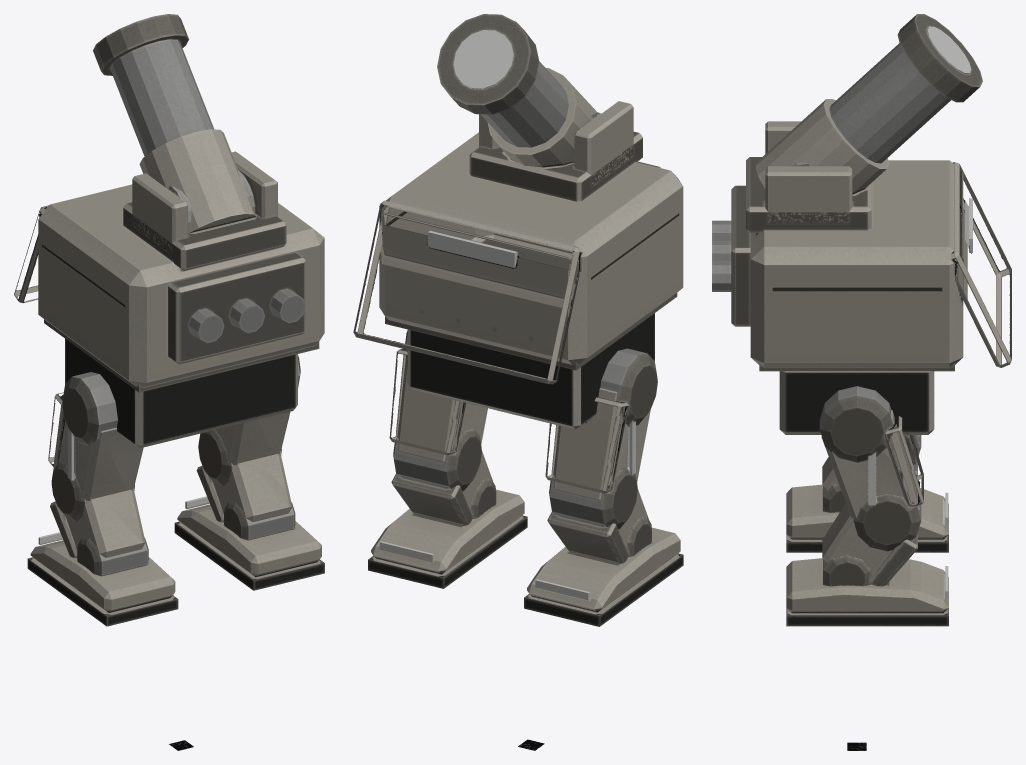
Rendered from ord_culverin.fbx.
3 renders of one model, left to right at view 1: azimuth 30°, elevation 25°; view 2: azimuth 150°, elevation 25°; view 3: azimuth 270°, elevation 25°, orthographic. The views are drawn at different scales.
Visible parts, largest first — view 1: torso_bar, barrel_bar, base_bar, thighL_bar, footL_bar, footR_bar, shinL_bar, shinR_bar, thighR_bar; view 2: torso_bar, thighL_bar, base_bar, barrel_bar, footR_bar, footL_bar, thighR_bar, shinR_bar, shinL_bar, barrel_glow_weapon_bar, torso_glow_head_bar; view 3: torso_bar, barrel_bar, thighR_bar, footR_bar, base_bar, footL_bar, shinR_bar, barrel_glow_weapon_bar, shinL_bar.
Part boxes in pixels (x1,y1,x2,y2): torso_bar: (14,151,324,392); barrel_bar: (93,14,256,233); base_bar: (65,339,297,448); thighL_bar: (48,372,143,522); footL_bar: (27,540,178,626); footR_bar: (174,504,324,590); shinL_bar: (50,489,148,576); shinR_bar: (196,453,295,540); thighR_bar: (198,355,300,486); torso_bar: (353,101,683,384); thighL_bar: (545,348,657,529); base_bar: (407,313,654,429); barrel_bar: (437,14,601,167); footR_bar: (368,489,527,588); footL_bar: (524,527,683,626); thighR_bar: (389,331,487,491); shinR_bar: (391,451,496,525); shinL_bar: (547,489,651,563); barrel_glow_weapon_bar: (453,30,513,88); torso_glow_head_bar: (428,230,516,267); torso_bar: (712,121,1011,371); barrel_bar: (755,14,982,194); thighR_bar: (819,386,923,551); footR_bar: (786,558,948,626); base_bar: (779,371,934,434); footL_bar: (786,484,948,552); shinR_bar: (822,503,917,586); barrel_glow_weapon_bar: (927,26,971,73); shinL_bar: (822,457,917,512).
Bounding box in the file's own units: 268 × 830 × 310.
2 materials, 2 textured.
